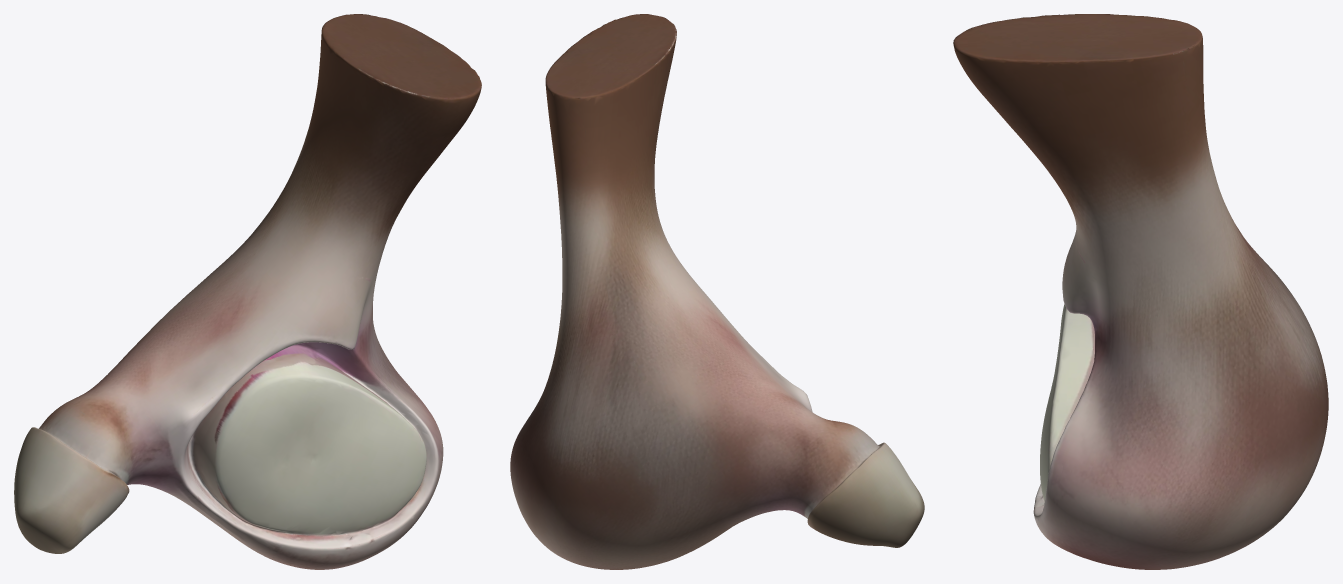
File: vet_v2_organ_horse_hoof.glb
3 renders of one model, left to right at view 1: azimuth 30°, elevation 25°; view 2: azimuth 150°, elevation 25°; view 3: azimuth 270°, elevation 25°, orthographic. The views are drawn at different scales.
Parts seen in each view (by area): view 1: model; view 2: model; view 3: model.
Boxes of the visible parts, <box> form: model: <box>14,14,481,569</box>; model: <box>510,14,924,569</box>; model: <box>953,14,1328,569</box>.
Bounding box in the file's own units: 1.67 × 1.9 × 1.2.
1 material, 1 textured.
